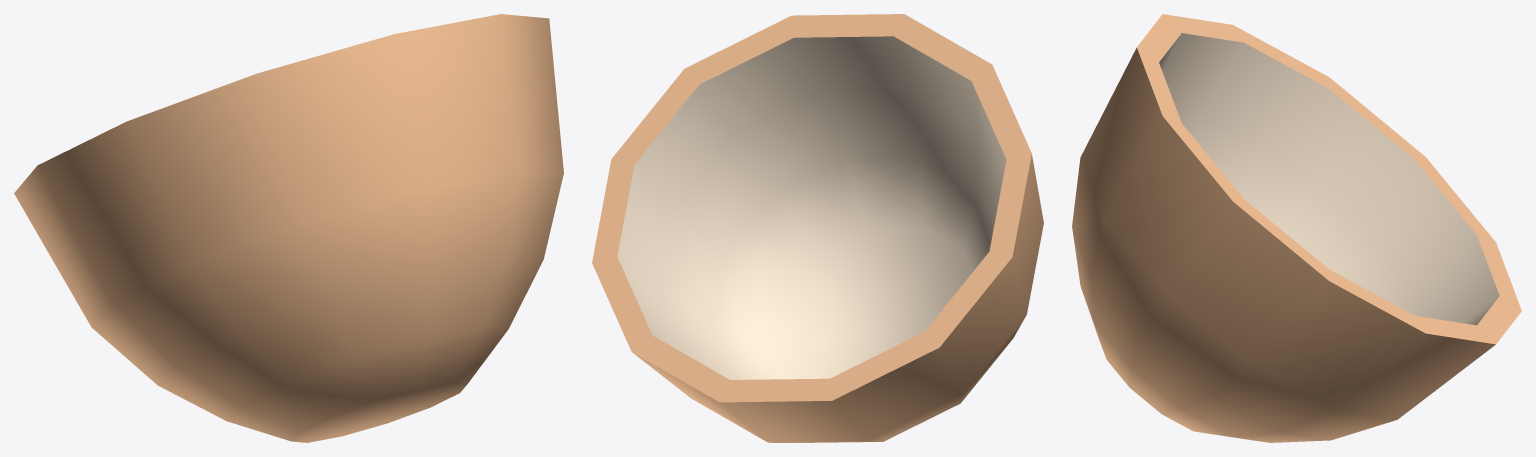
Rendered from cocoaberto00.fbx.
The picture shows the model from 3 angles, left to right: view 1: azimuth 30°, elevation 25°; view 2: azimuth 150°, elevation 25°; view 3: azimuth 270°, elevation 25°; orthographic projection. The views are drawn at different scales.
Visible parts, largest first — view 1: cocoaberto00; view 2: cocoaberto00; view 3: cocoaberto00.
Part boxes in pixels (x1,y1,x2,y2): cocoaberto00: (14,14,563,442); cocoaberto00: (592,14,1043,442); cocoaberto00: (1072,14,1521,442).
Size of the model in its own units: 11.87 by 10.26 by 11.07.
